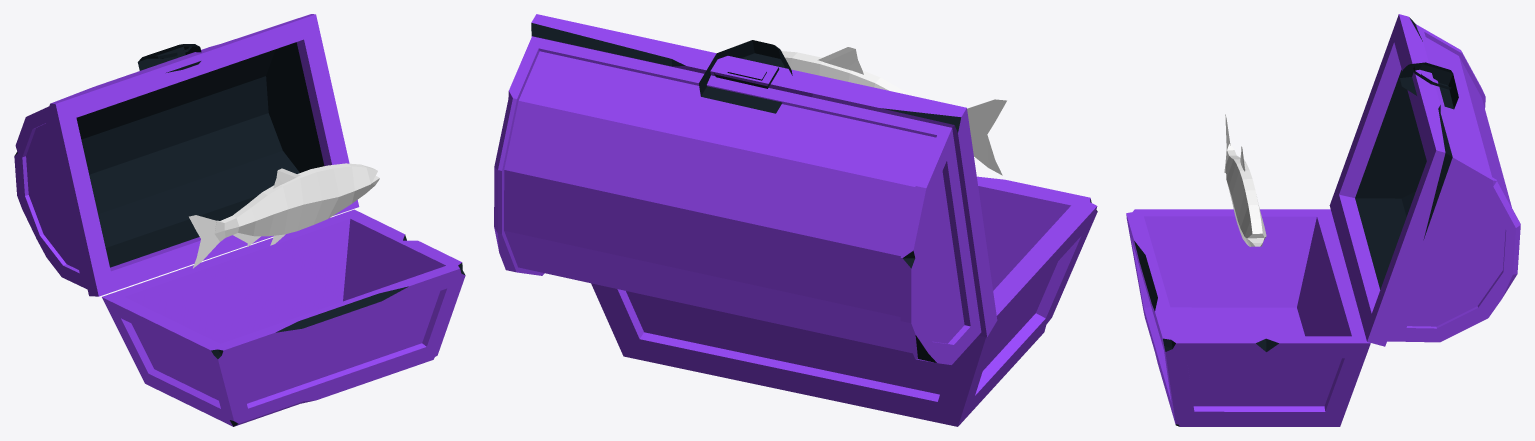
The model's file is green_chest.glb.
3 renders of one model, left to right at view 1: azimuth 30°, elevation 25°; view 2: azimuth 150°, elevation 25°; view 3: azimuth 270°, elevation 25°, orthographic. The views are drawn at different scales.
Parts seen in each view (by area): view 1: Plane.001, Cube.009_Material.002_0; view 2: Plane.001, Cube.009_Material.002_0; view 3: Plane.001, Cube.009_Material.002_0.
Boxes of the visible parts, bbox=[...] form: Plane.001: bbox=[14, 14, 465, 426]; Cube.009_Material.002_0: bbox=[189, 163, 379, 268]; Plane.001: bbox=[494, 14, 1097, 426]; Cube.009_Material.002_0: bbox=[781, 47, 1006, 175]; Plane.001: bbox=[1126, 14, 1520, 426]; Cube.009_Material.002_0: bbox=[1224, 114, 1266, 246].
Bounding box in the file's own units: 4.91 × 4.26 × 5.09.
Materials: 2 (1 with a texture image).
